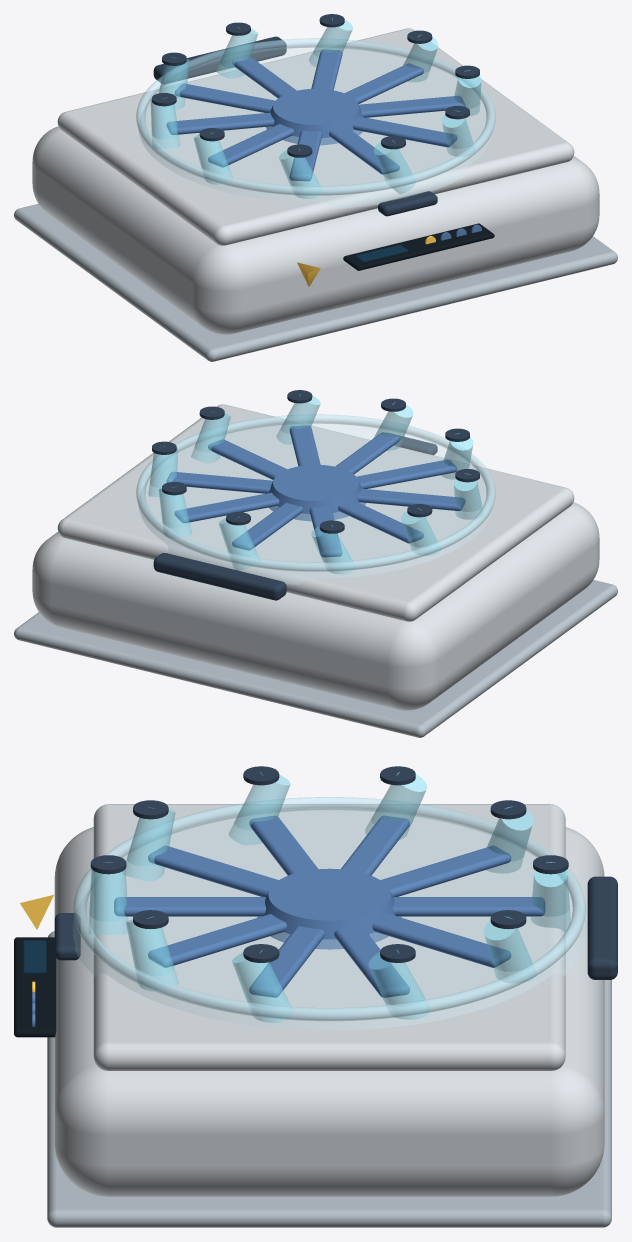
Rendered from centrifuge-rotor.glb.
3 views of the same model, one above another, from view 1: azimuth 30°, elevation 25°; view 2: azimuth 150°, elevation 25°; view 3: azimuth 270°, elevation 25° (orthographic). The views are drawn at different scales.
Visible parts, largest first — view 1: rounded_rectangular_centrifuge_body, raised_lid_deck, round_translucent_hinged_lid_window, gray_lower_shadow_base, thick_round_lid_rim, central_rotor_hub, rear_hinge_bar, front_control_panel, rotor_arm_1, rotor_arm_7, rotor_arm_2, rotor_arm_6 (+17 smaller); view 2: rounded_rectangular_centrifuge_body, raised_lid_deck, round_translucent_hinged_lid_window, gray_lower_shadow_base, thick_round_lid_rim, central_rotor_hub, rear_hinge_bar, rotor_arm_4, rotor_arm_8, rotor_arm_9, rotor_arm_3, rotor_arm_7 (+15 smaller); view 3: raised_lid_deck, rounded_rectangular_centrifuge_body, round_translucent_hinged_lid_window, gray_lower_shadow_base, thick_round_lid_rim, central_rotor_hub, front_control_panel, rear_hinge_bar, rotor_arm_1, rotor_arm_4, rotor_arm_5, rotor_arm_0 (+18 smaller).
Boxes of the visible parts, box(x1,y1,x2,y2) form: rounded_rectangular_centrifuge_body: box(32, 126, 599, 334); raised_lid_deck: box(57, 28, 574, 245); round_translucent_hinged_lid_window: box(139, 46, 492, 208); gray_lower_shadow_base: box(14, 204, 617, 361); thick_round_lid_rim: box(136, 38, 495, 195); central_rotor_hub: box(266, 88, 362, 145); rear_hinge_bar: box(153, 36, 286, 83); front_control_panel: box(343, 223, 494, 270); rotor_arm_1: box(352, 116, 457, 147); rotor_arm_7: box(166, 112, 274, 134); rotor_arm_2: box(359, 95, 465, 117); rotor_arm_6: box(174, 83, 275, 112); rounded_rectangular_centrifuge_body: box(32, 502, 599, 710); raised_lid_deck: box(57, 404, 574, 621); round_translucent_hinged_lid_window: box(139, 422, 492, 584); gray_lower_shadow_base: box(14, 580, 617, 737); thick_round_lid_rim: box(136, 414, 495, 571); central_rotor_hub: box(269, 464, 365, 521); rear_hinge_bar: box(153, 553, 286, 600); rotor_arm_4: box(174, 492, 279, 523); rotor_arm_8: box(357, 488, 465, 511); rotor_arm_9: box(356, 459, 457, 488); rotor_arm_3: box(166, 471, 272, 493); rotor_arm_7: box(338, 500, 423, 543); raised_lid_deck: box(93, 804, 565, 1070); rounded_rectangular_centrifuge_body: box(54, 827, 604, 1196); round_translucent_hinged_lid_window: box(73, 808, 587, 1030); gray_lower_shadow_base: box(47, 931, 611, 1227); thick_round_lid_rim: box(73, 797, 585, 1021); central_rotor_hub: box(257, 868, 401, 949); front_control_panel: box(14, 937, 56, 1037); rear_hinge_bar: box(587, 876, 617, 979); rotor_arm_1: box(148, 914, 286, 967); rotor_arm_4: box(372, 914, 511, 967); rotor_arm_5: box(393, 897, 545, 916); rotor_arm_0: box(114, 897, 265, 916).
Size of the model in its own units: 18.2 by 7.07 by 16.25.
